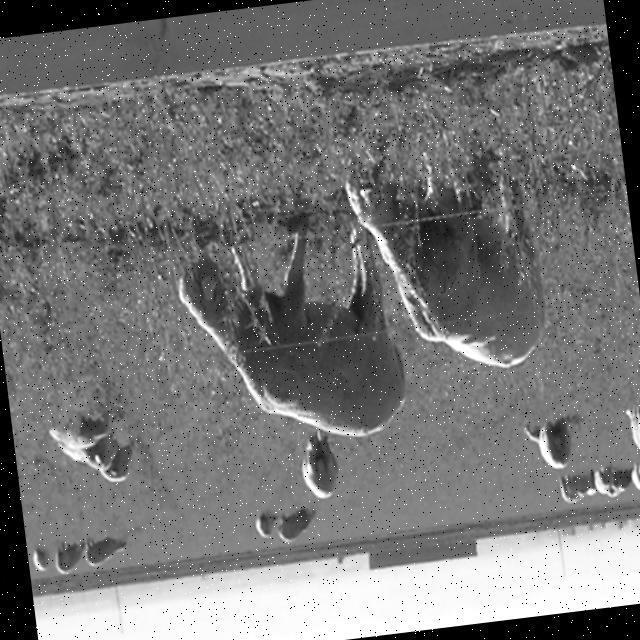sheep: (177, 233, 403, 438), (344, 181, 542, 369), (48, 427, 115, 471), (62, 445, 129, 482), (524, 418, 569, 468), (277, 508, 311, 542), (83, 538, 123, 566), (624, 406, 640, 451)
